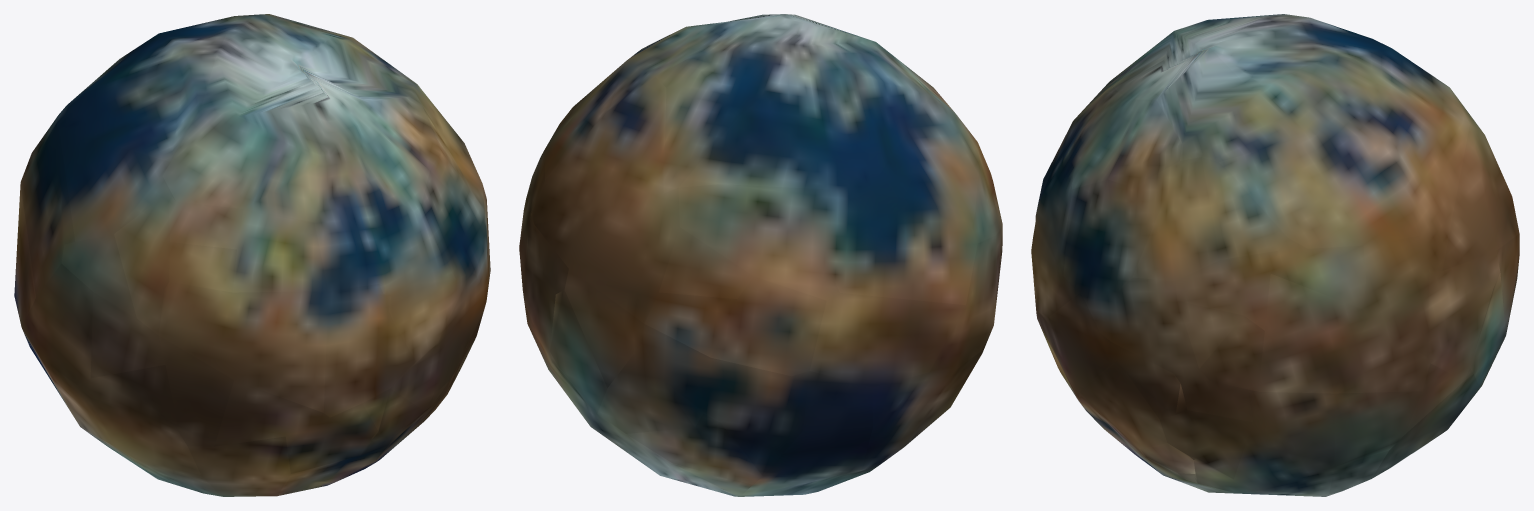
The model's file is planet_13-far.glb.
3 renders of one model, left to right at view 1: azimuth 30°, elevation 25°; view 2: azimuth 150°, elevation 25°; view 3: azimuth 270°, elevation 25°, orthographic.
Visible parts, largest first — view 1: Mesh_0.001; view 2: Mesh_0.001; view 3: Mesh_0.001.
Part boxes in pixels (box(x1,y1,x2,y2)): Mesh_0.001: box(14, 14, 490, 496); Mesh_0.001: box(519, 14, 1002, 496); Mesh_0.001: box(1031, 14, 1519, 496).
Bounding box in the file's own units: 1.89 × 1.9 × 1.89.
Materials: 1 (1 with a texture image).
